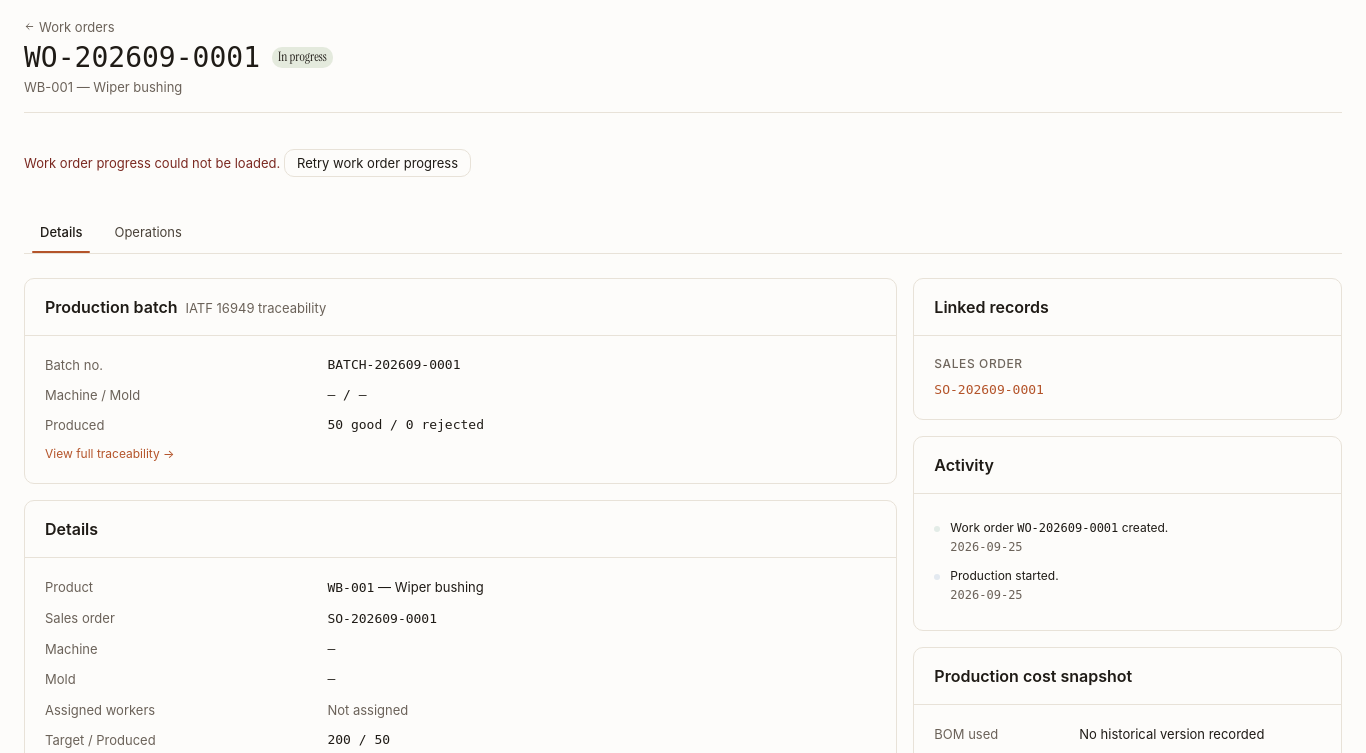
it: WorkOrderDetailPage › keeps a failed process read visible and lets production retry
The width and height of the screenshot is (1366, 753).
Expected: the message shows "Work order progress could not be loaded", [24,154,280,170]
Click the button "Retry work order progress" at {"x": 378, "y": 162}, box [284,148,471,176]
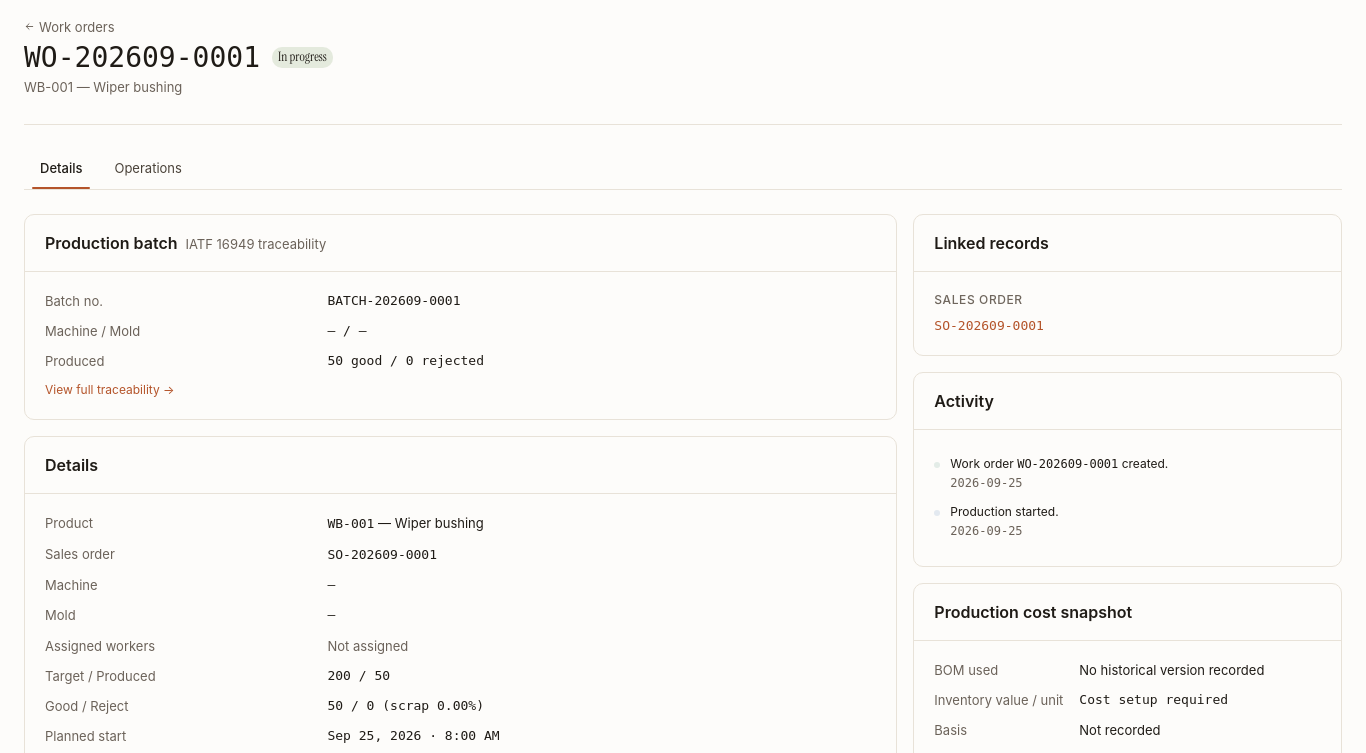
Expected: the message "Work order progress could not be loaded. Retry work order progress" is gone
